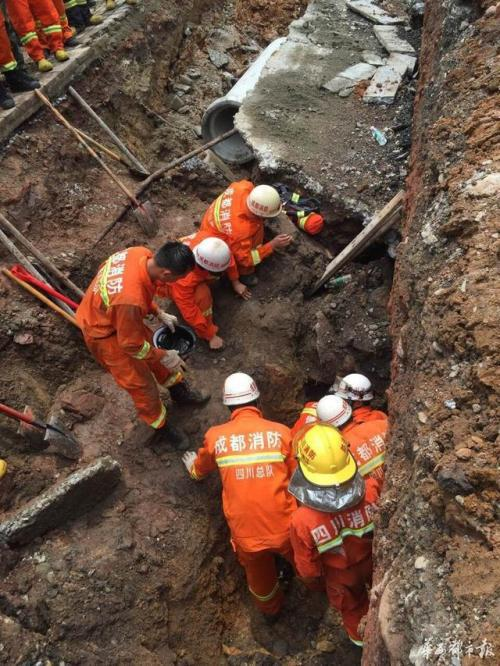head: (153, 241, 196, 288)
helmet: (296, 427, 353, 491), (190, 235, 241, 280), (241, 183, 289, 226), (221, 369, 266, 413), (338, 371, 378, 414), (314, 393, 355, 430)
